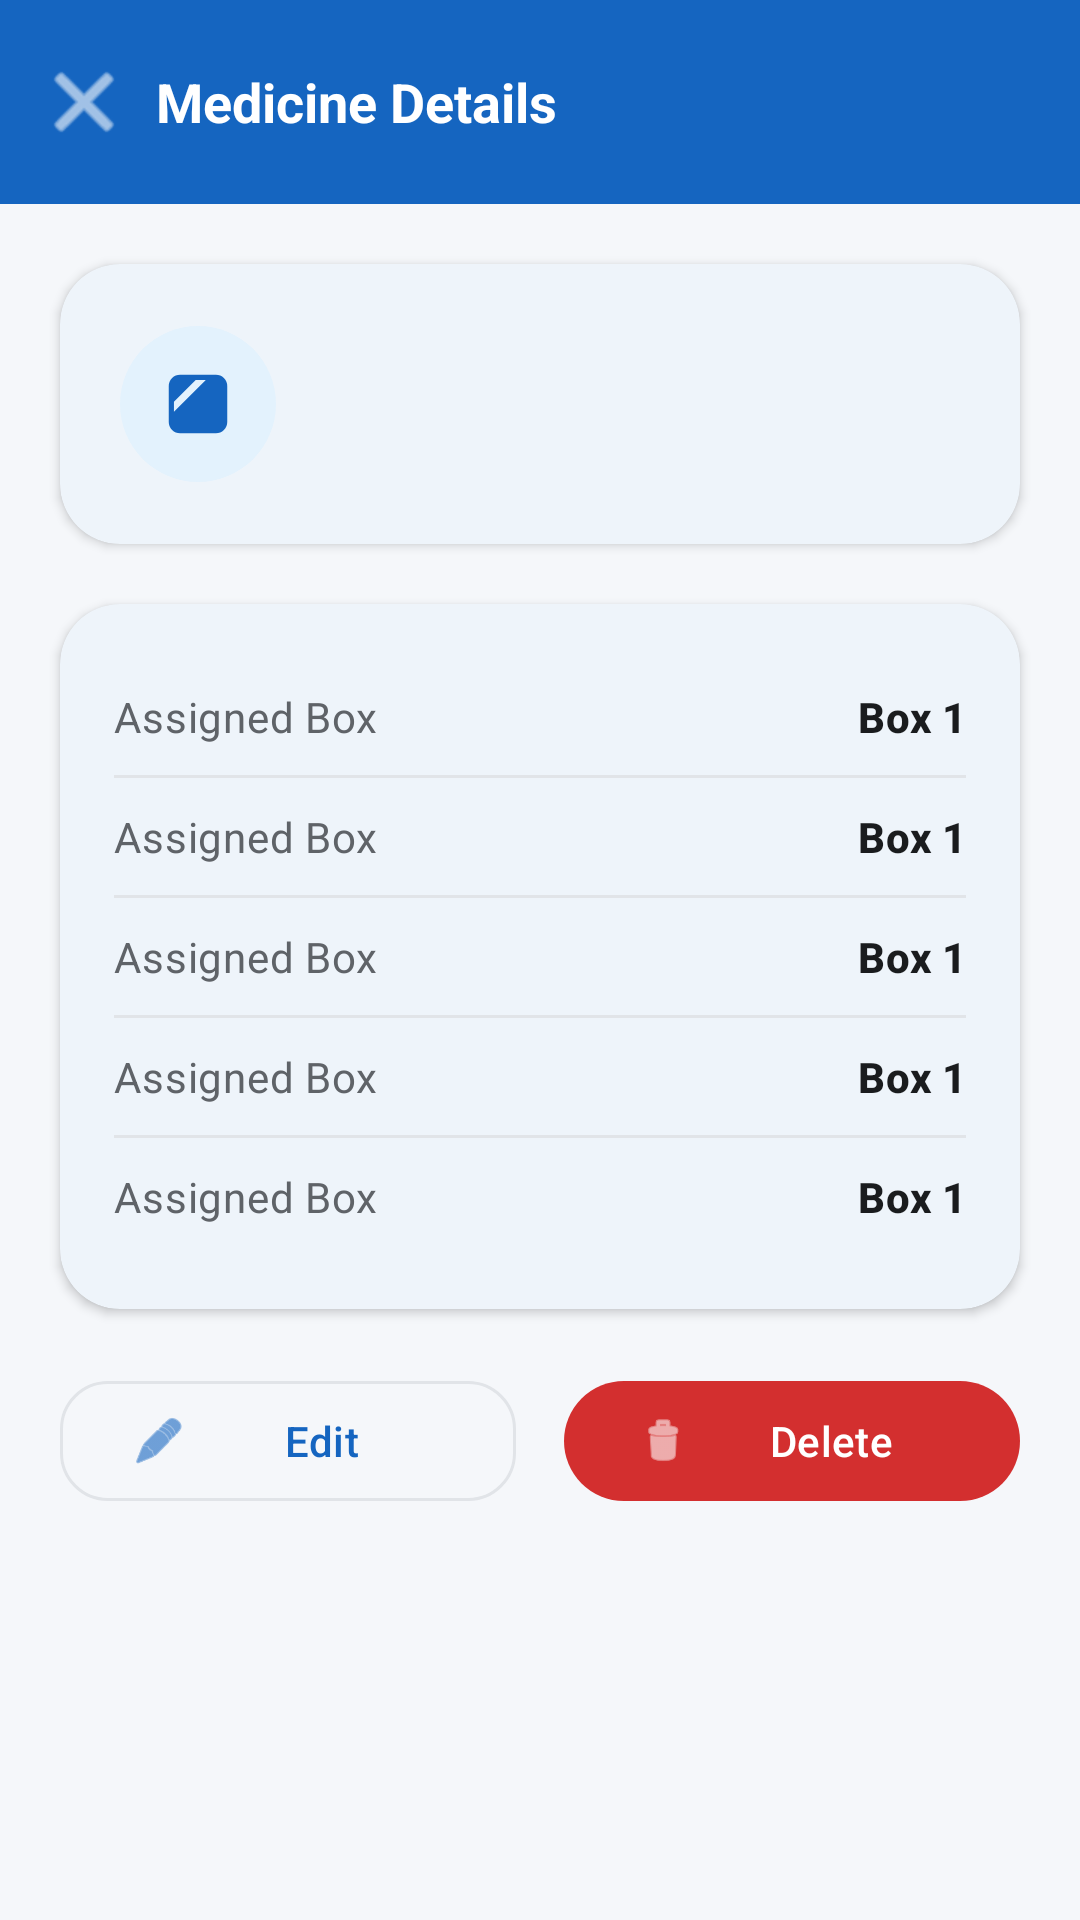

Icon click points for this 1080px×1920px phone screenshot, format point (x, y):
Back: point (84, 102)
